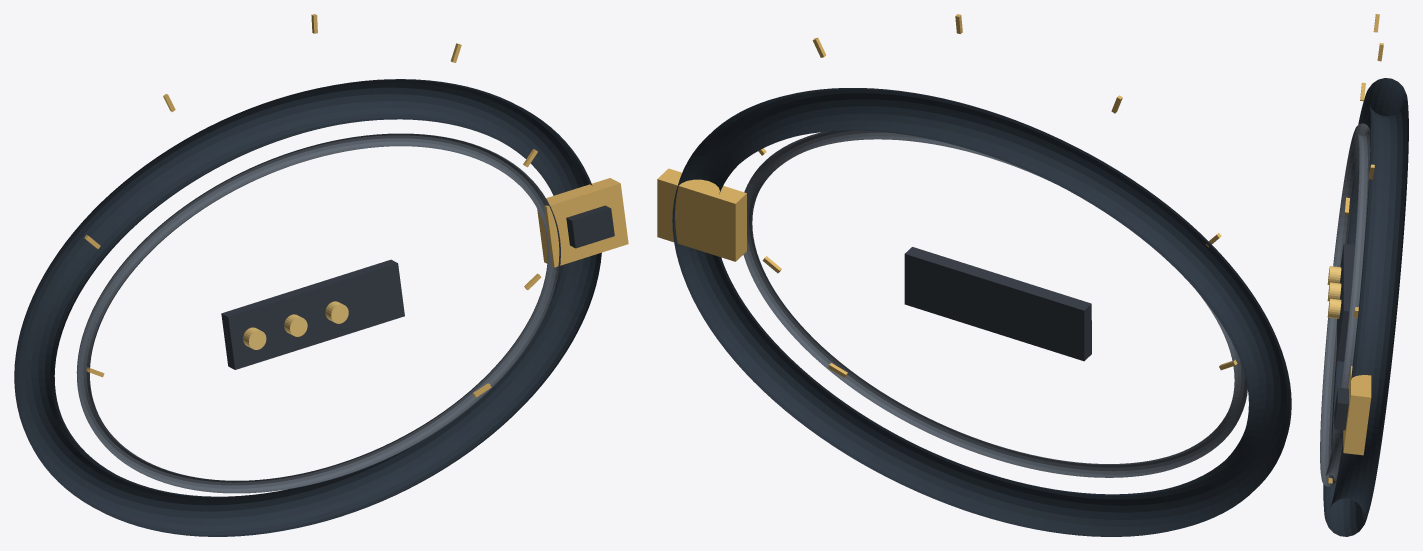
File: collar not use.glb
3 views of the same model, side by side, from view 1: azimuth 30°, elevation 25°; view 2: azimuth 150°, elevation 25°; view 3: azimuth 270°, elevation 25° (orthographic). The views are drawn at different scales.
Visible parts, largest first — view 1: Collar_Band, Inner_Stripe, Adjustment_Plate, Gold_Buckle, Buckle_Inner; view 2: Collar_Band, Inner_Stripe, Adjustment_Plate, Gold_Buckle; view 3: Collar_Band, Inner_Stripe, Gold_Buckle, Adjustment_Plate, Buckle_Inner, Rivet_0.12, Rivet_-0.28, Rivet_-0.68.
Part boxes in pixels (box(x1,y1,x2,y2)): Collar_Band: box(14, 79, 601, 536); Inner_Stripe: box(76, 133, 560, 493); Adjustment_Plate: box(221, 259, 404, 369); Gold_Buckle: box(537, 178, 628, 267); Buckle_Inner: box(566, 205, 614, 248); Collar_Band: box(672, 88, 1291, 536); Inner_Stripe: box(743, 130, 1247, 477); Adjustment_Plate: box(904, 247, 1091, 361); Gold_Buckle: box(657, 168, 746, 261); Collar_Band: box(1323, 78, 1408, 536); Inner_Stripe: box(1320, 123, 1370, 486); Gold_Buckle: box(1343, 366, 1371, 455); Adjustment_Plate: box(1337, 243, 1354, 361); Buckle_Inner: box(1334, 387, 1348, 430); Rivet_0.12: box(1327, 298, 1341, 318); Rivet_-0.28: box(1327, 282, 1341, 301); Rivet_-0.68: box(1327, 266, 1341, 284).
Size of the model in its own units: 5.8 by 4.51 by 0.7847.
